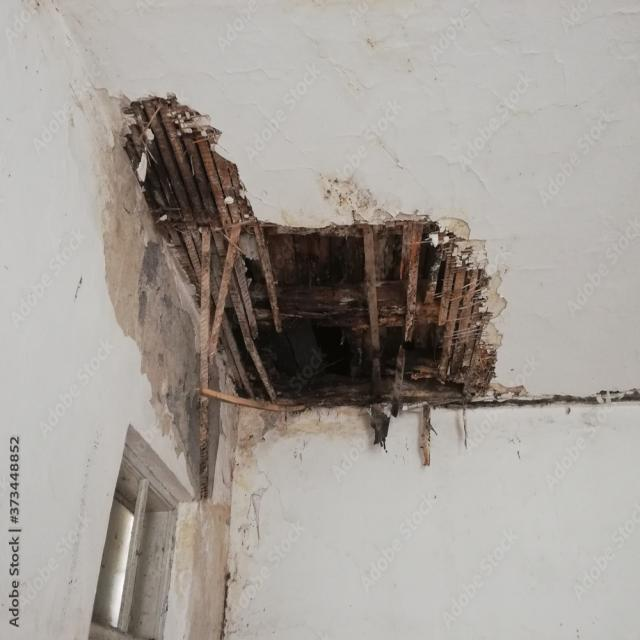damaged_roof: (112, 89, 508, 418)
